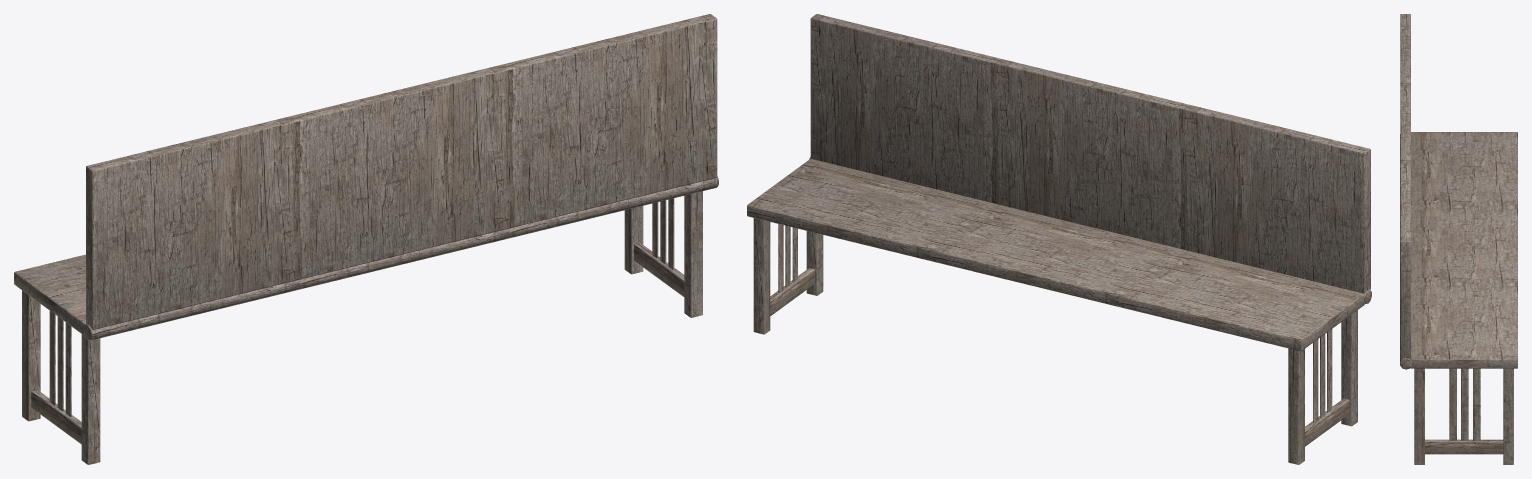
Rendered from BenchWithBackrest.FBX.
The picture shows the model from 3 angles, left to right: view 1: azimuth 30°, elevation 25°; view 2: azimuth 150°, elevation 25°; view 3: azimuth 270°, elevation 25°; orthographic projection. The views are drawn at different scales.
Visible parts, largest first — view 1: BenchWithBackrest; view 2: BenchWithBackrest; view 3: BenchWithBackrest.
Part boxes in pixels (bbox=[...]): BenchWithBackrest: bbox=[14, 14, 718, 464]; BenchWithBackrest: bbox=[747, 14, 1371, 464]; BenchWithBackrest: bbox=[1400, 14, 1517, 464].
Bounding box in the file's own units: 988 × 455 × 216.
